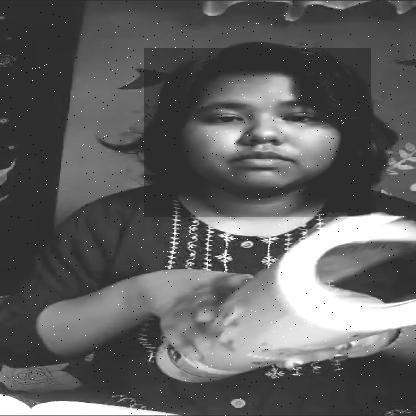Normal: (144, 48, 371, 217)
